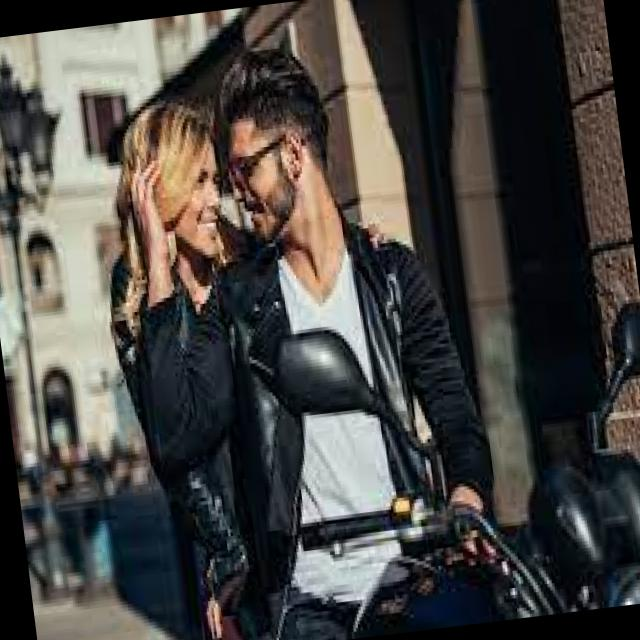Jacket: (125, 190, 512, 640)
